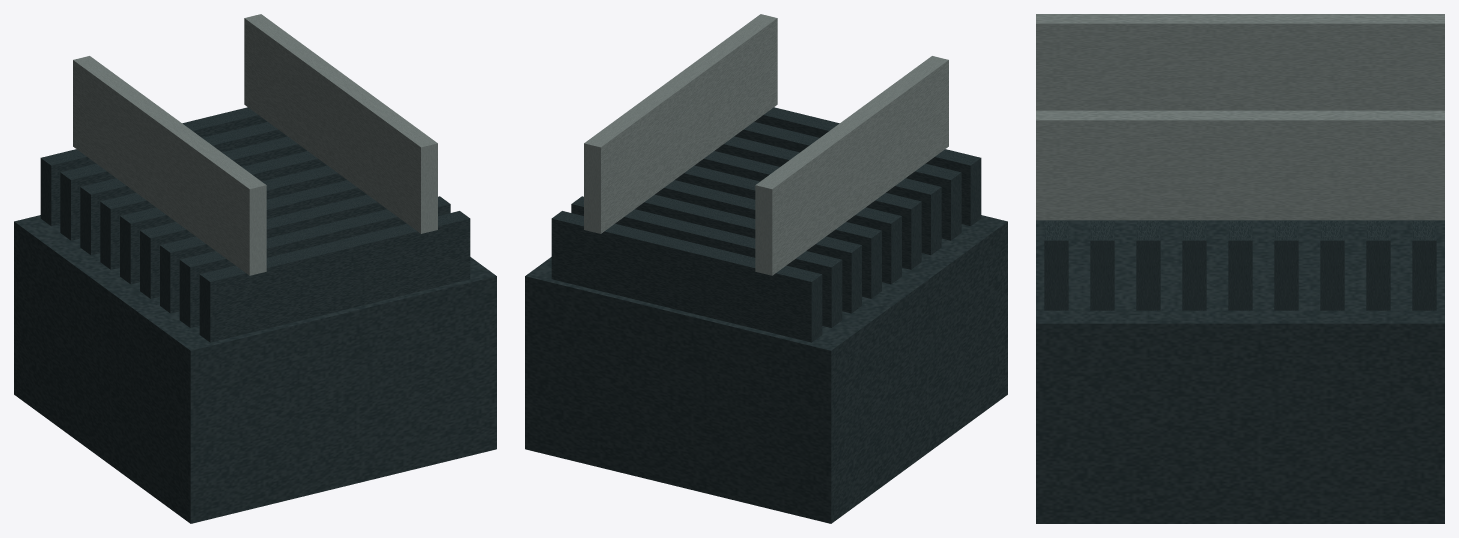
Rendered from transport_causeway_01.fbx.
3 views of the same model, side by side, from view 1: azimuth 30°, elevation 25°; view 2: azimuth 150°, elevation 25°; view 3: azimuth 270°, elevation 25° (orthographic). The views are drawn at different scales.
Visible parts, largest first — view 1: transport_causeway_01_LOD0; view 2: transport_causeway_01_LOD0; view 3: transport_causeway_01_LOD0.
Boxes of the visible parts, x1,y1,x2,y2 form: transport_causeway_01_LOD0: (14, 14, 496, 523); transport_causeway_01_LOD0: (525, 14, 1007, 523); transport_causeway_01_LOD0: (1036, 14, 1444, 523).
Size of what is drawn, in the model's own units: 1 by 1 by 1.
